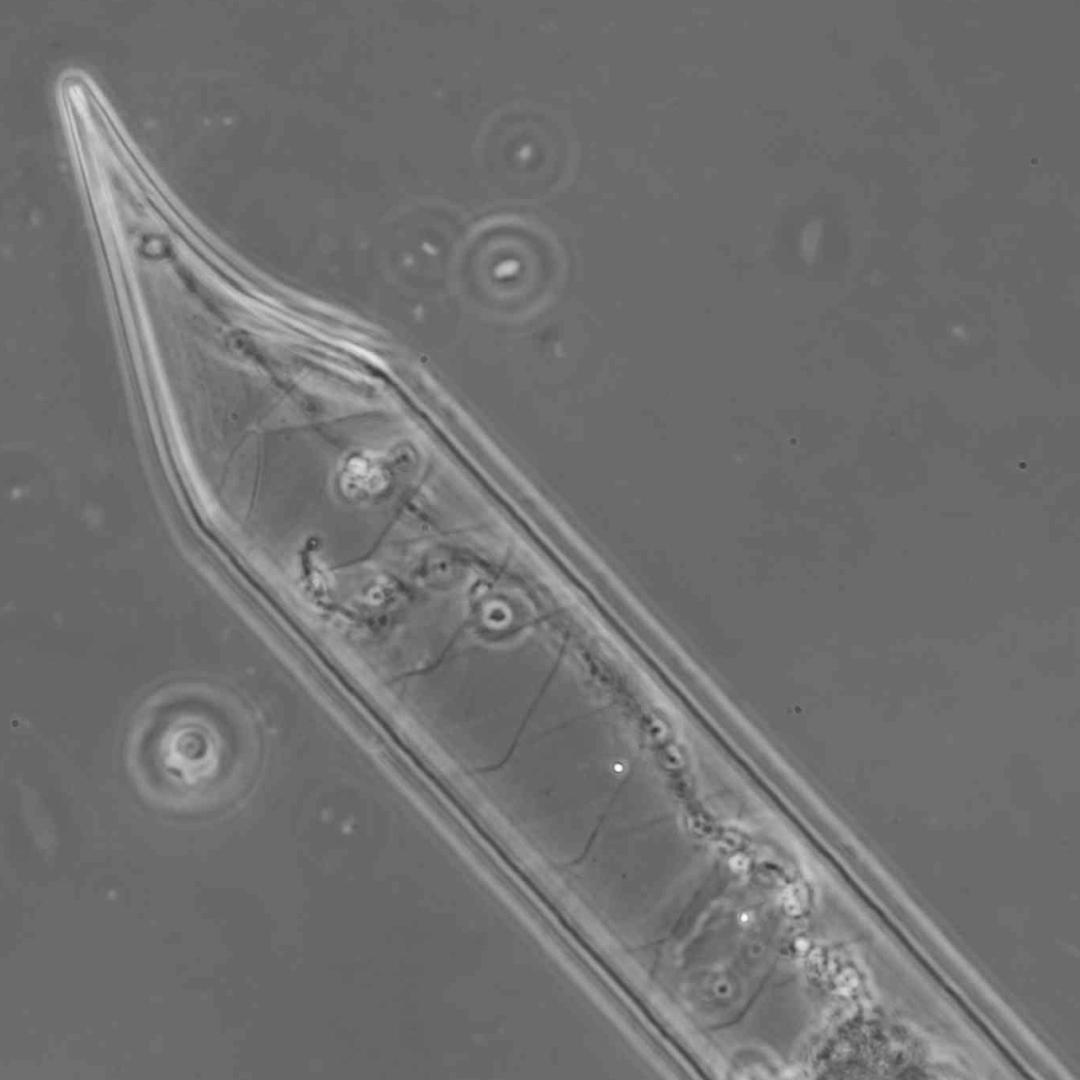proboscia_alata: (62, 77, 1048, 1079)
